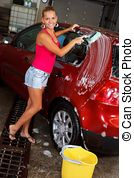face: (37, 6, 63, 33)
